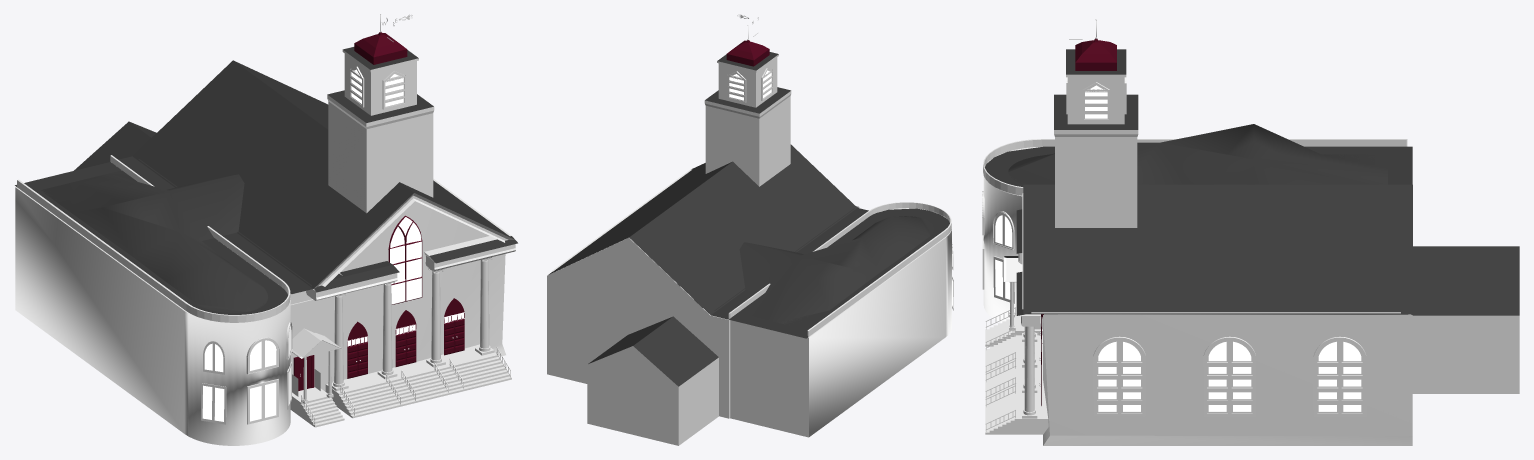
The model's file is dsar.glb.
3 views of the same model, side by side, from view 1: azimuth 30°, elevation 25°; view 2: azimuth 150°, elevation 25°; view 3: azimuth 270°, elevation 25° (orthographic). The views are drawn at different scales.
Visible parts, largest first — view 1: main toof, Cylinder.002, roof.001, roof, Cube, Cube.005, Stairs, Column.003, DoorPanels, subroof, BigWindow, Cube.004 (+12 smaller); view 2: Cylinder.002, main toof, Cube, Cube.004, roof.001, roof, Cube.005, Window.002, subroof; view 3: main toof, Cube, Cube.004, roof, roof.001, Window.009, Stairs, Cube.005, Cylinder.002, subroof, Column.003, Window.003 (+3 smaller).
Boxes of the visible parts, x1=… form: main toof: x1=118, y1=60, x2=514, y2=293; Cylinder.002: x1=15, y1=187, x2=290, y2=445; roof.001: x1=40, y1=170, x2=267, y2=312; roof: x1=327, y1=32, x2=434, y2=213; Cube: x1=290, y1=201, x2=505, y2=391; Cube.005: x1=15, y1=155, x2=290, y2=322; Stairs: x1=325, y1=344, x2=511, y2=418; Column.003: x1=332, y1=257, x2=494, y2=391; DoorPanels: x1=347, y1=298, x2=464, y2=378; subroof: x1=138, y1=159, x2=517, y2=292; BigWindow: x1=390, y1=217, x2=421, y2=304; Cube.004: x1=74, y1=121, x2=156, y2=170; Cylinder.002: x1=730, y1=227, x2=951, y2=437; main toof: x1=548, y1=144, x2=868, y2=319; Cube: x1=547, y1=238, x2=730, y2=418; Cube.004: x1=587, y1=316, x2=718, y2=445; roof.001: x1=738, y1=216, x2=933, y2=324; roof: x1=704, y1=40, x2=791, y2=186; Cube.005: x1=728, y1=202, x2=951, y2=338; Window.002: x1=727, y1=71, x2=746, y2=102; subroof: x1=552, y1=168, x2=859, y2=310; main toof: x1=1022, y1=184, x2=1412, y2=314; Cube: x1=1043, y1=314, x2=1412, y2=445; Cube.004: x1=1411, y1=246, x2=1519, y2=393; roof: x1=1054, y1=38, x2=1138, y2=227; roof.001: x1=1008, y1=124, x2=1387, y2=184; Window.009: x1=1093, y1=336, x2=1366, y2=416; Stairs: x1=985, y1=335, x2=1048, y2=434; Cube.005: x1=983, y1=139, x2=1412, y2=195; Cylinder.002: x1=983, y1=146, x2=1408, y2=322; subroof: x1=1016, y1=209, x2=1400, y2=315; Column.003: x1=1022, y1=326, x2=1037, y2=418; Window.003: x1=1082, y1=82, x2=1110, y2=121.
Size of the model in its own units: 5.72 by 5.95 by 7.68.
